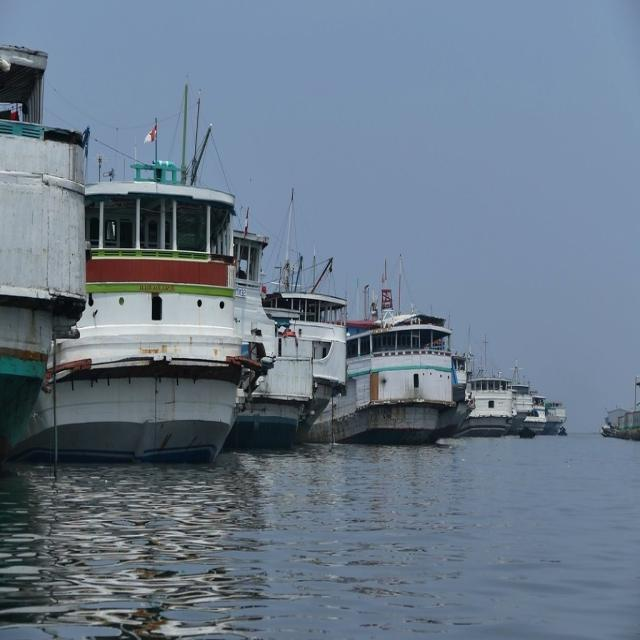boat: (64, 176, 256, 464), (358, 306, 468, 452), (458, 350, 520, 450)
